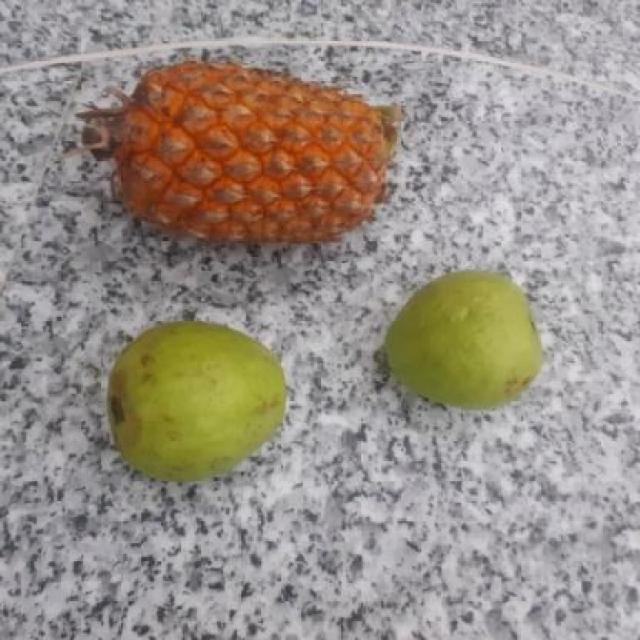guava: (102, 322, 286, 480), (378, 273, 544, 409)
pineapple: (102, 61, 406, 248)
